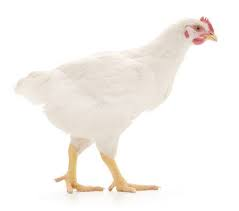chicken: (7, 11, 228, 204)
